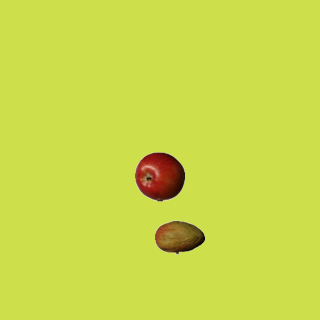Apple Braeburn: (134, 151, 184, 201)
Papaya: (154, 212, 204, 262)
